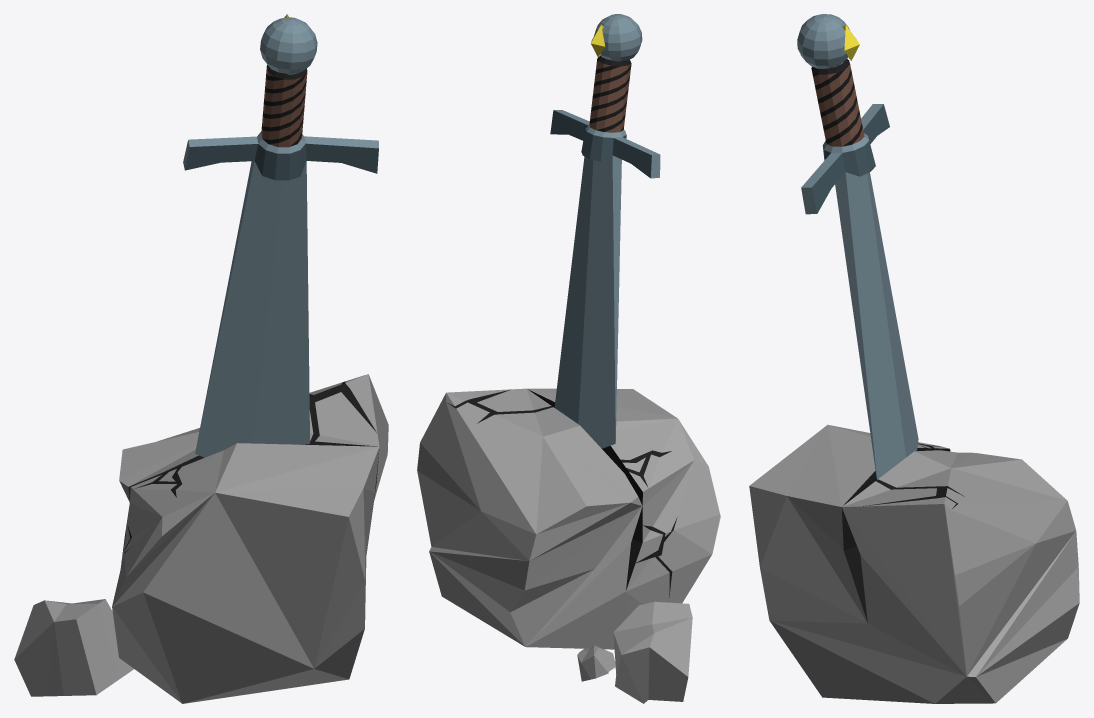
File: swordStone.fbx
3 renders of one model, left to right at view 1: azimuth 30°, elevation 25°; view 2: azimuth 150°, elevation 25°; view 3: azimuth 270°, elevation 25°, orthographic. The views are drawn at different scales.
Parts seen in each view (by area): view 1: group_1141953133, group_345461775; view 2: group_1141953133, group_345461775; view 3: group_1141953133, group_345461775.
Boxes of the visible parts, <box> form: group_1141953133: <box>14,374,388,703</box>; group_345461775: <box>183,14,378,457</box>; group_1141953133: <box>417,388,720,703</box>; group_345461775: <box>550,14,660,448</box>; group_1141953133: <box>749,424,1079,703</box>; group_345461775: <box>797,14,918,479</box>.
Bounding box in the file's own units: 48.69 × 94.48 × 41.4.
